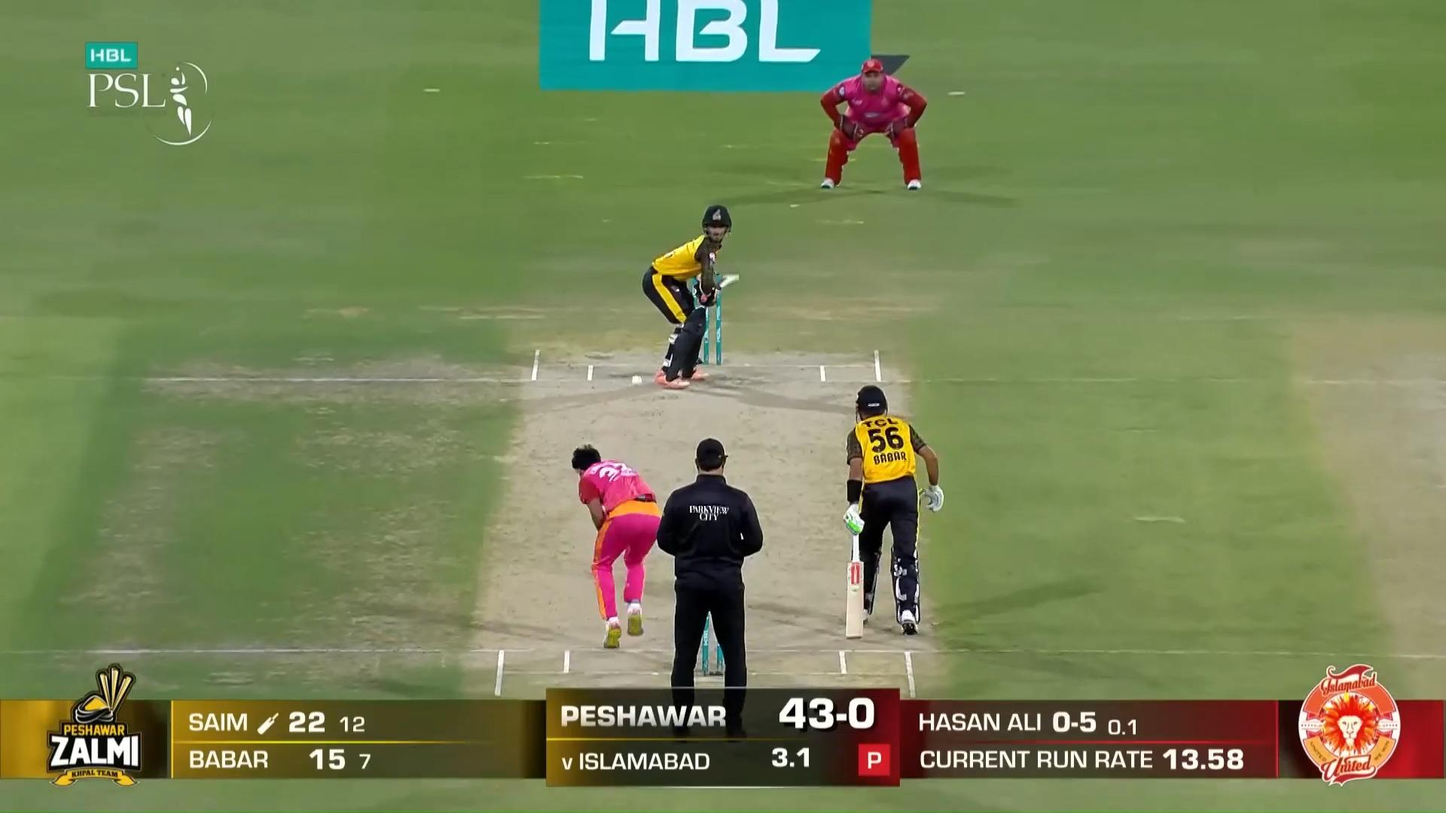batsman: (642, 204, 739, 389)
